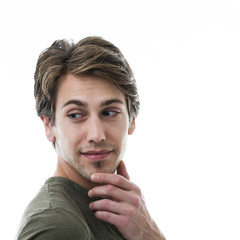young: (27, 31, 142, 183)
